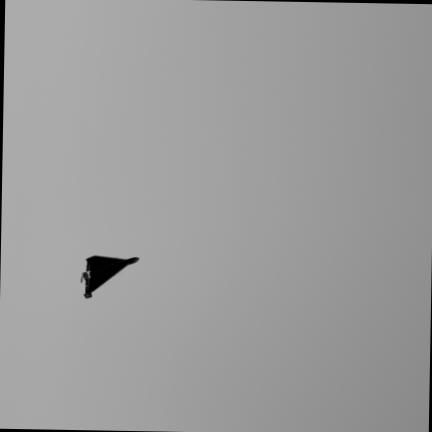Shahed: (81, 256, 137, 297)
